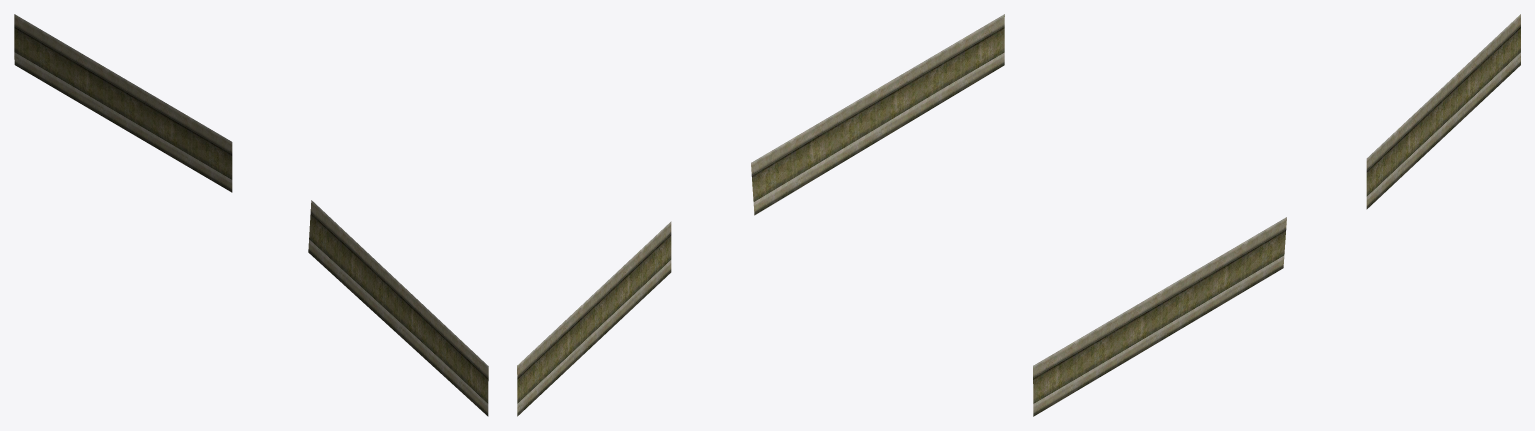
File: CH09_SMAUG_PLAYSURFACE_LAIR129.fbx
3 views of the same model, side by side, from view 1: azimuth 30°, elevation 25°; view 2: azimuth 150°, elevation 25°; view 3: azimuth 330°, elevation 25° (orthographic).
Visible parts, largest first — view 1: CH09_SMAUG_PLAYSURFACE_LAIR129; view 2: CH09_SMAUG_PLAYSURFACE_LAIR129; view 3: CH09_SMAUG_PLAYSURFACE_LAIR129.
Part boxes in pixels (x1,y1,x2,y2): CH09_SMAUG_PLAYSURFACE_LAIR129: (14,14,488,416); CH09_SMAUG_PLAYSURFACE_LAIR129: (517,14,1004,416); CH09_SMAUG_PLAYSURFACE_LAIR129: (1033,14,1520,416).
Bounding box in the file's own units: 5980 × 7861 × 132115.
Materials: 1 (1 with a texture image).
